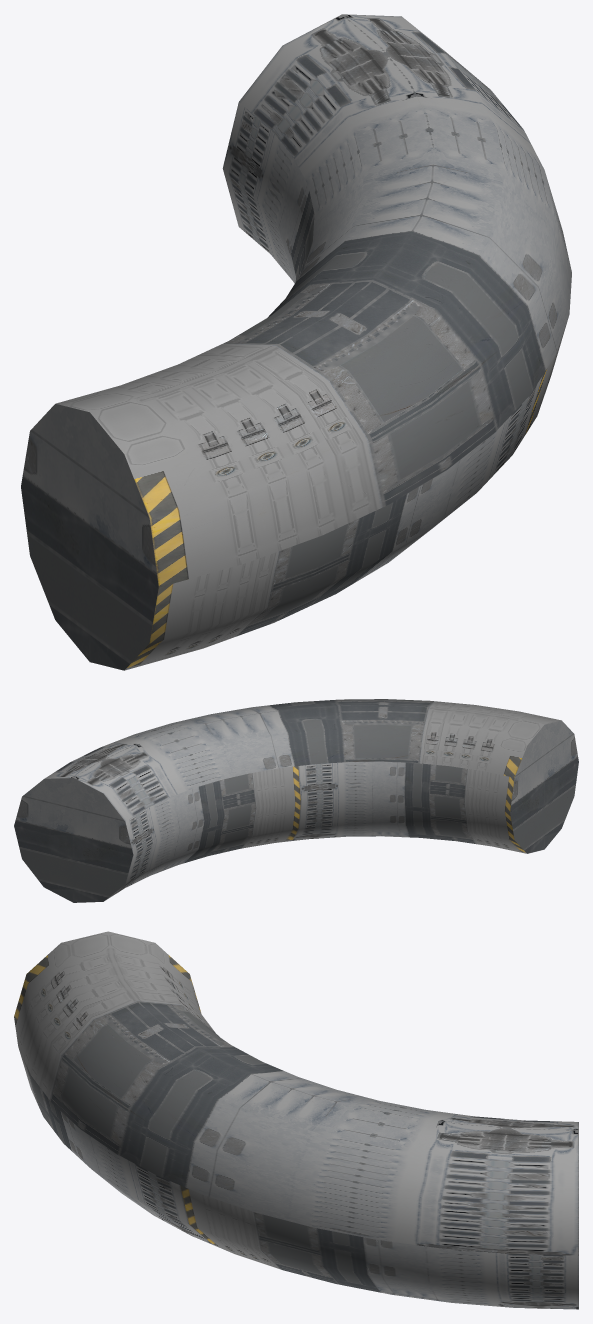
Rendered from SM_Pipe5c.fbx.
The picture shows the model from 3 angles, top to bottom: view 1: azimuth 30°, elevation 25°; view 2: azimuth 150°, elevation 25°; view 3: azimuth 270°, elevation 25°; orthographic projection. The views are drawn at different scales.
Parts seen in each view (by area): view 1: SM_Pipe5c_LOD0; view 2: SM_Pipe5c_LOD0; view 3: SM_Pipe5c_LOD0.
Part boxes in pixels (box(x1,y1,x2,y2)): SM_Pipe5c_LOD0: box(21, 14, 571, 670); SM_Pipe5c_LOD0: box(14, 699, 578, 902); SM_Pipe5c_LOD0: box(14, 931, 578, 1309).
Bounding box in the file's own units: 120 × 120 × 40.
Materials: 1 (1 with a texture image).
